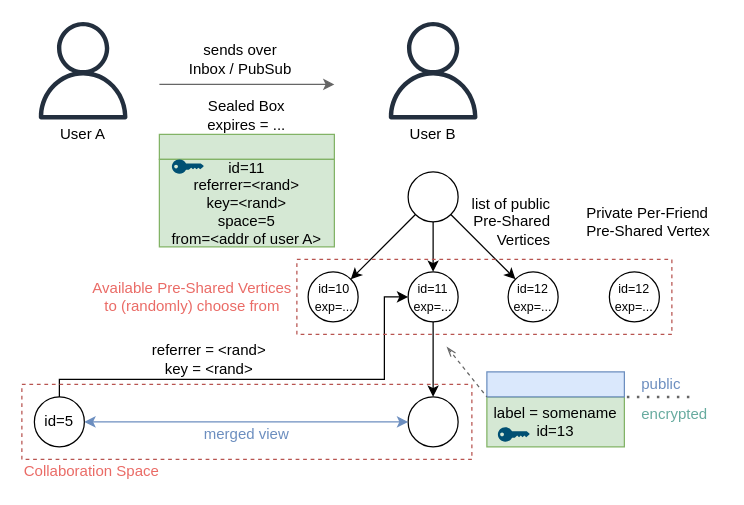
This 744x505 diagram has some shape labels left out. The centre of each missing label's shape, as x and y in pixels:
"id=13" belongs at point (432, 421).
"referrer = <rand>" belongs at point (555, 384).
"to = user B" belongs at point (246, 146).
